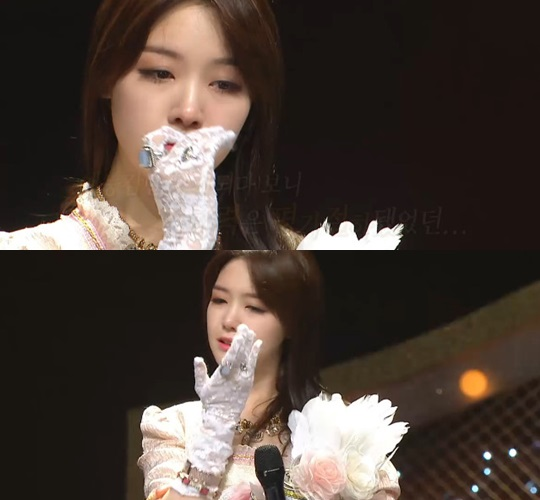face: (112, 1, 254, 185), (206, 265, 283, 367)
